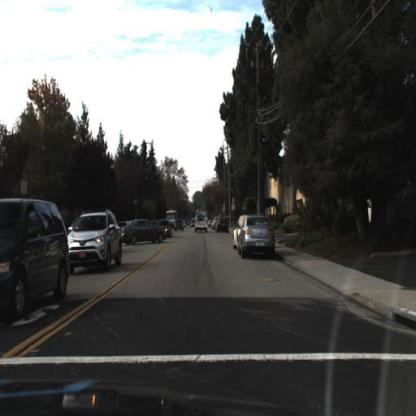car: (0, 198, 70, 314), (66, 206, 122, 270), (116, 215, 165, 246), (121, 216, 170, 246), (238, 215, 273, 255), (190, 205, 211, 236), (214, 214, 230, 234)
truck: (191, 209, 211, 238), (164, 208, 178, 224)
